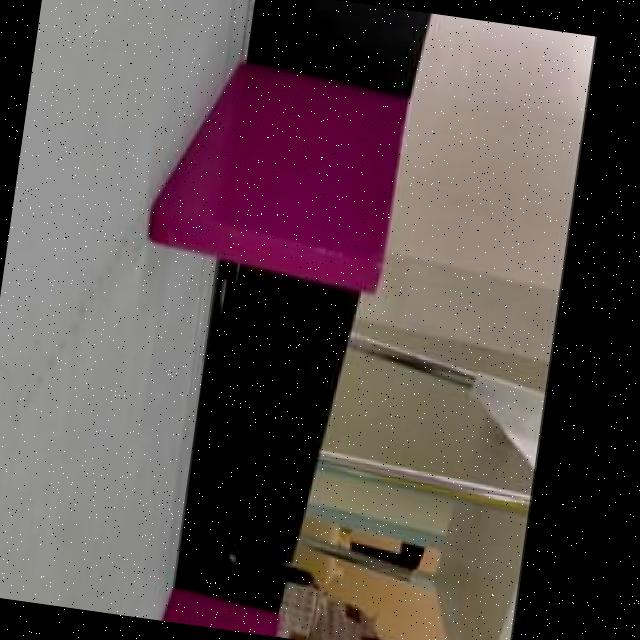xparking: (144, 68, 410, 290), (152, 600, 278, 637)
